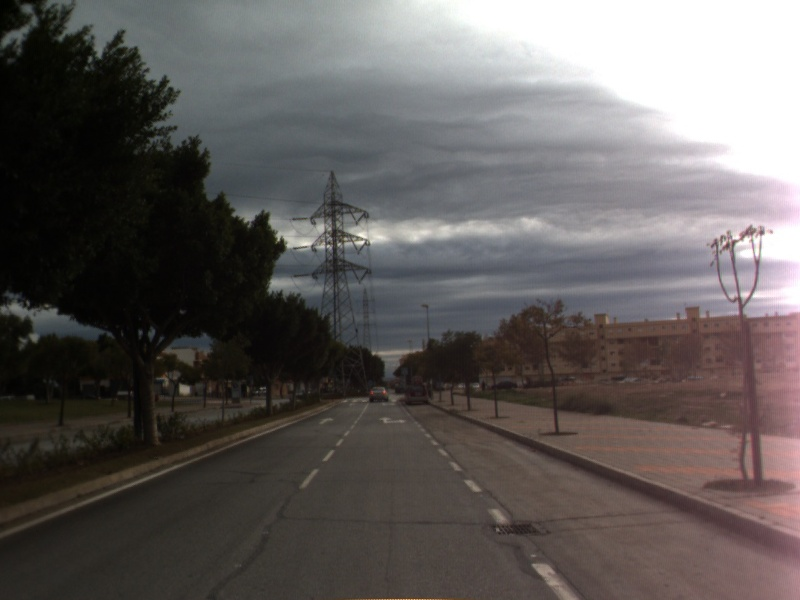STRAIGHT: (316, 415, 337, 426)
STRAIGHT_RIGHT: (377, 414, 409, 426)
